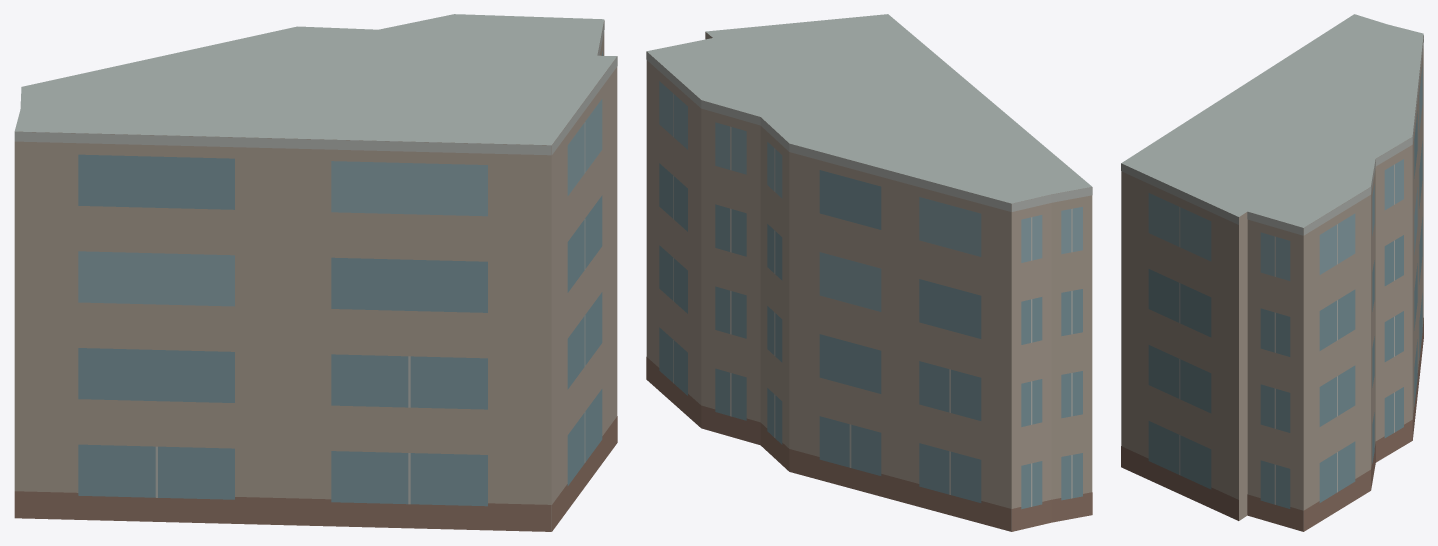
Rendered from survey-upis-33019071.glb.
The picture shows the model from 3 angles, left to right: view 1: azimuth 30°, elevation 25°; view 2: azimuth 150°, elevation 25°; view 3: azimuth 270°, elevation 25°; orthographic projection. The views are drawn at different scales.
Visible parts, largest first — view 1: survey-upis-33019071.tmp; view 2: survey-upis-33019071.tmp; view 3: survey-upis-33019071.tmp.
Part boxes in pixels (box(x1,y1,x2,y2)): survey-upis-33019071.tmp: box(14, 14, 617, 531); survey-upis-33019071.tmp: box(646, 14, 1092, 531); survey-upis-33019071.tmp: box(1121, 14, 1423, 531).
Bounding box in the file's own units: 14.2 × 9.4 × 8.49.
